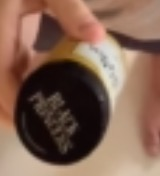blackprincess: (15, 21, 128, 164)
